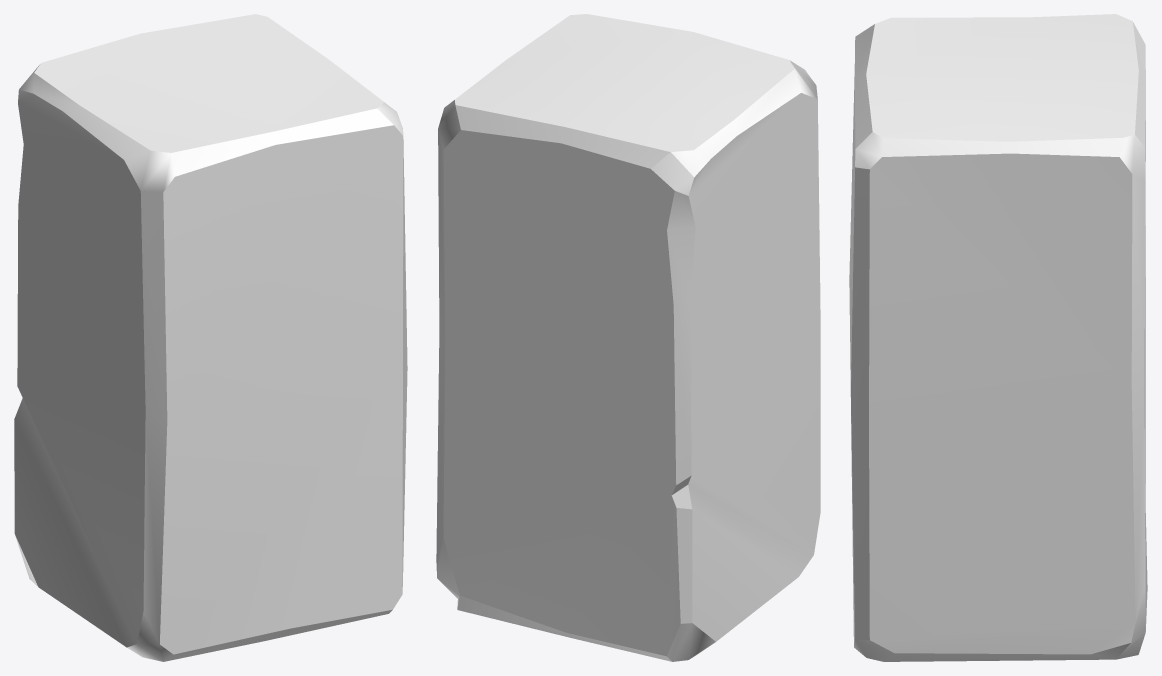
File: Prop_IceBlockVerticalNe.glb
3 renders of one model, left to right at view 1: azimuth 30°, elevation 25°; view 2: azimuth 150°, elevation 25°; view 3: azimuth 270°, elevation 25°, orthographic. The views are drawn at different scales.
Visible parts, largest first — view 1: Prop_IceBlockVerticalNe; view 2: Prop_IceBlockVerticalNe; view 3: Prop_IceBlockVerticalNe.
Part boxes in pixels (x1=…): Prop_IceBlockVerticalNe: x1=14, y1=14, x2=407, y2=661; Prop_IceBlockVerticalNe: x1=436, y1=14, x2=820, y2=661; Prop_IceBlockVerticalNe: x1=849, y1=14, x2=1147, y2=661.
Bounding box in the file's own units: 0.5763 × 1.08 × 0.5485.
Materials: 1 (1 with a texture image).
